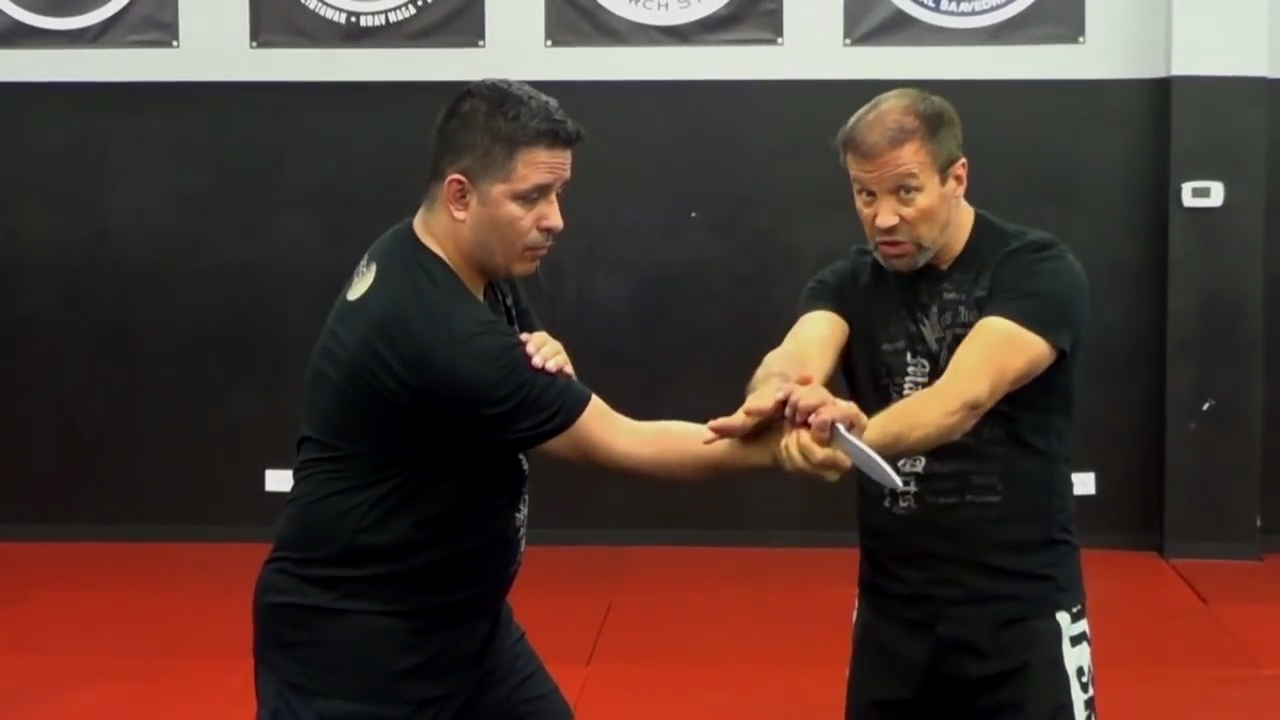knife: (791, 384, 912, 497)
